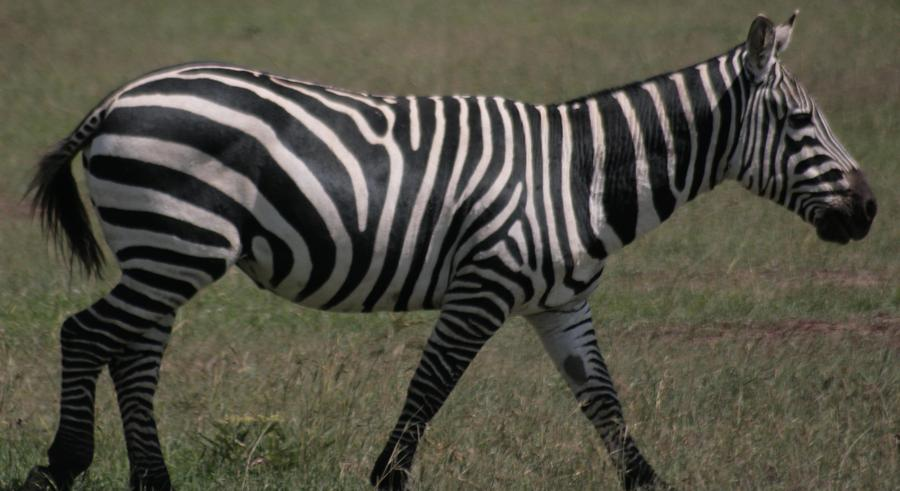zebra_plains: (103, 83, 590, 292)
